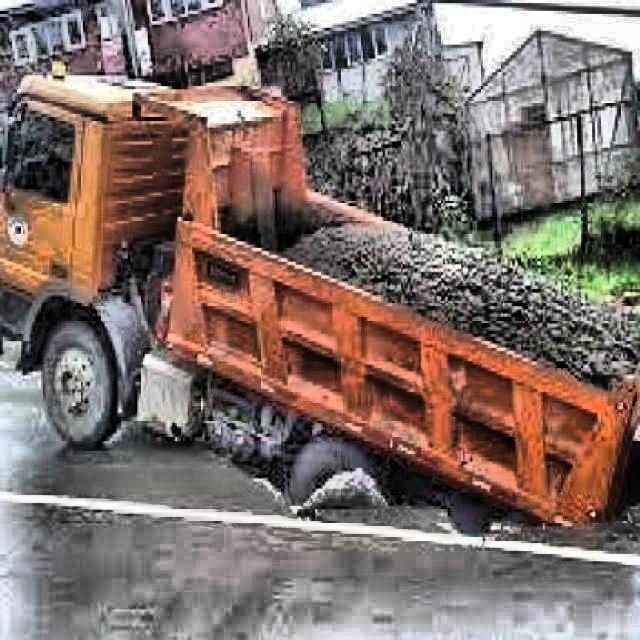dump_truck: (0, 45, 640, 558)
